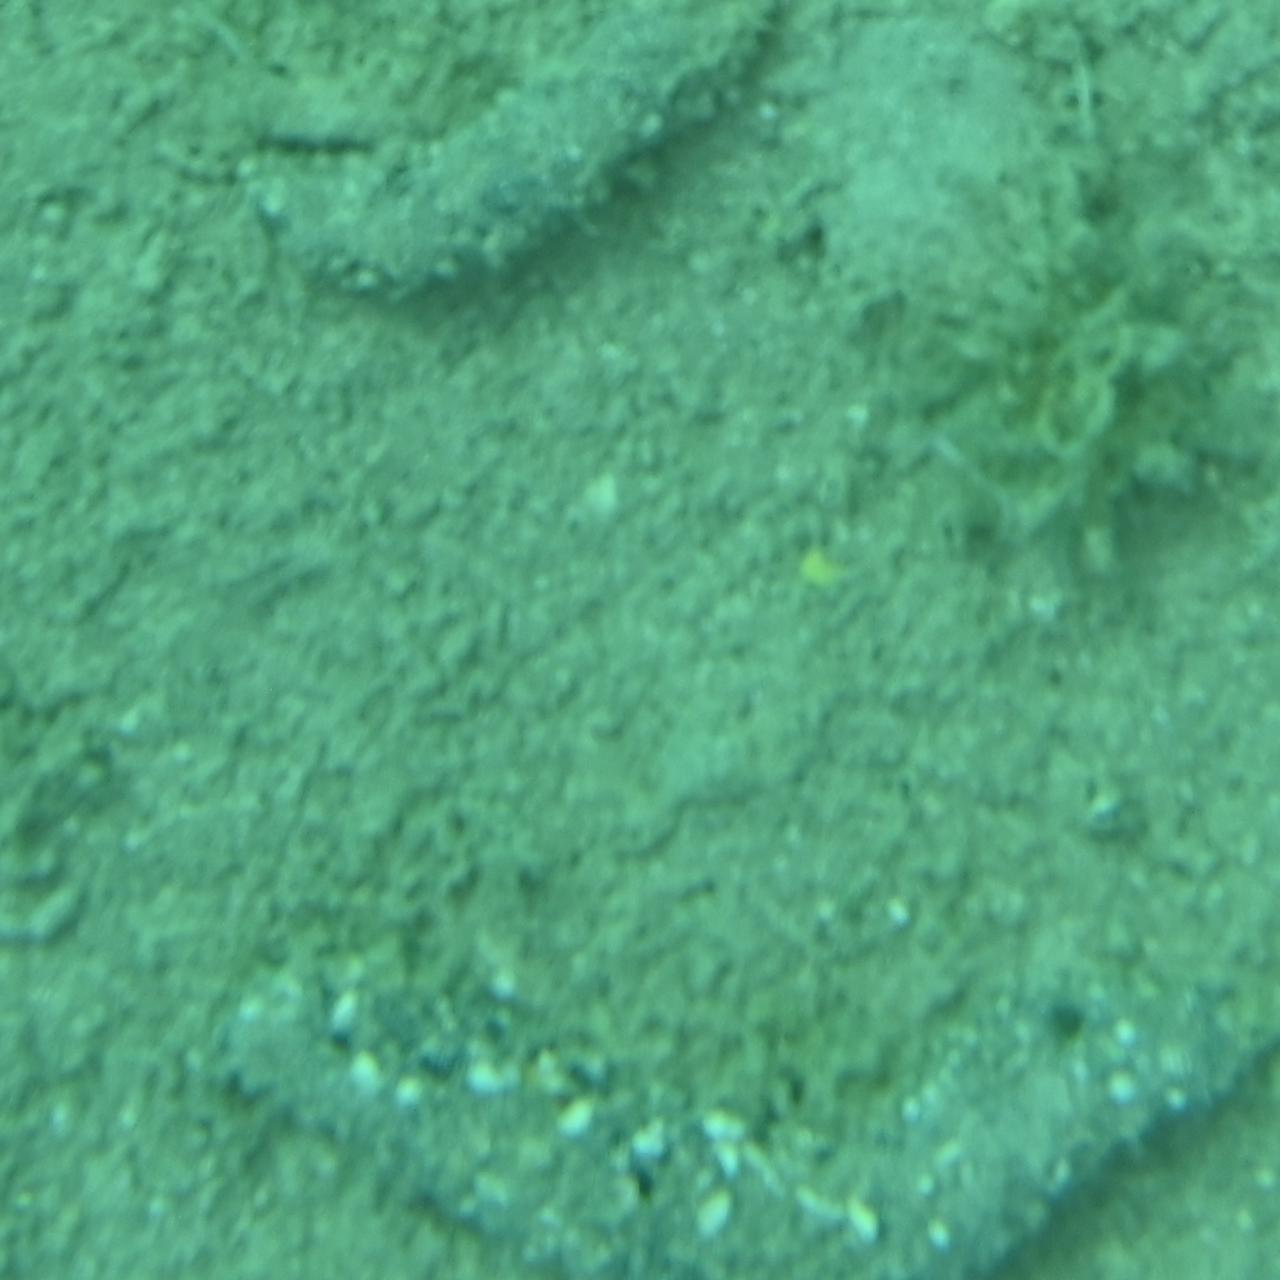Holothuria tubulosa: (206, 944, 1280, 1280), (256, 0, 808, 328)
